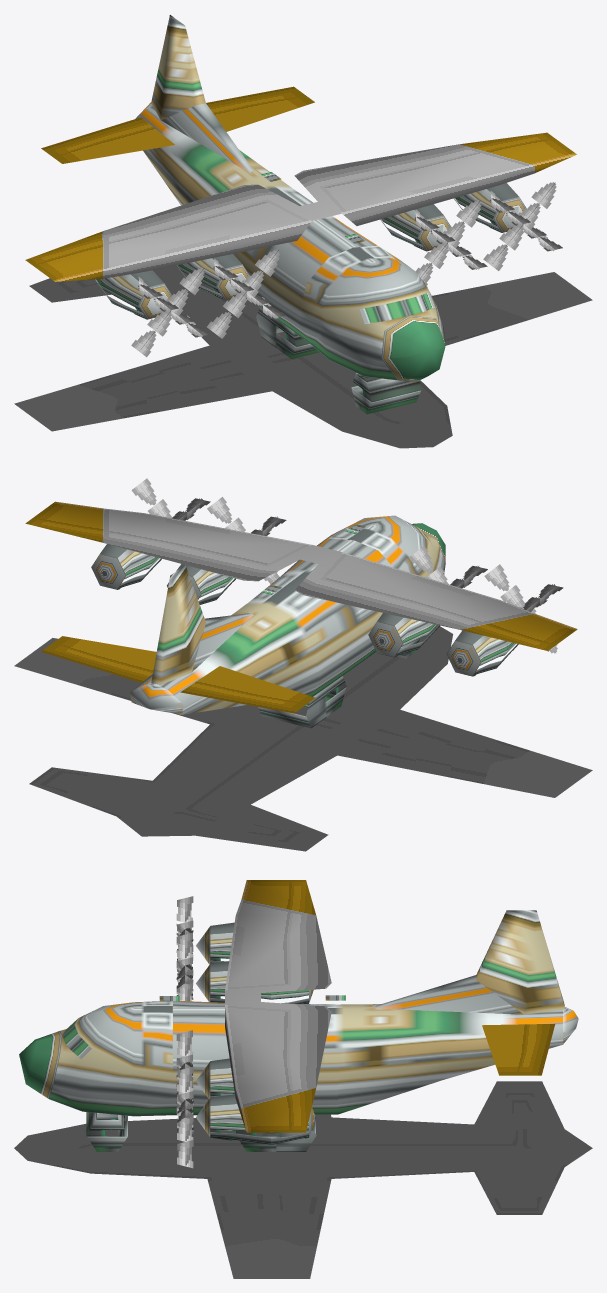
The picture shows the model from 3 angles, top to bottom: view 1: azimuth 30°, elevation 25°; view 2: azimuth 150°, elevation 25°; view 3: azimuth 270°, elevation 25°; orthographic projection.
Visible parts, largest first — view 1: c6_plan_02; view 2: c6_plan_02; view 3: c6_plan_02.
Boxes of the visible parts, box(x1,y1,x2,y2) form: c6_plan_02: box(14, 15, 592, 448); c6_plan_02: box(14, 478, 592, 851); c6_plan_02: box(14, 880, 592, 1278).
Size of the model in its own units: 109 by 46.4 by 102.
